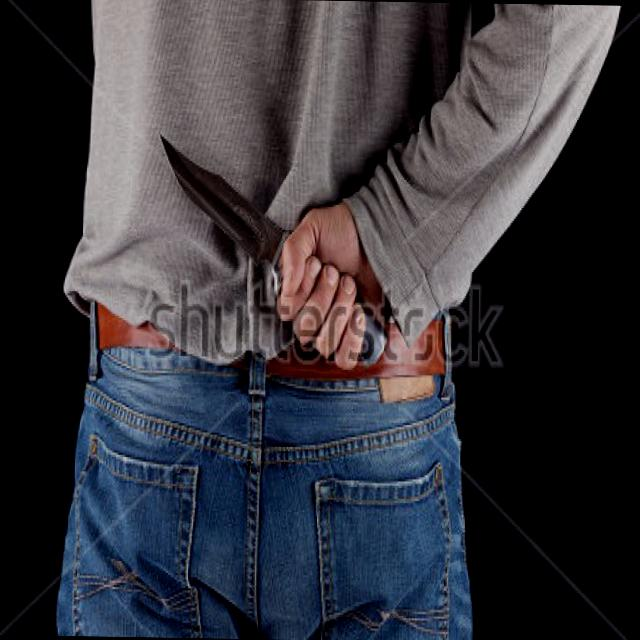knife: (144, 116, 346, 332)
